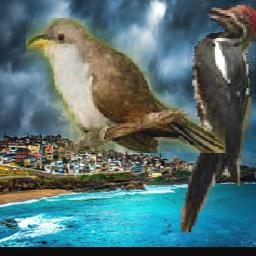Cuckoo: (27, 19, 227, 154)
Woodpecker: (180, 3, 256, 233)
